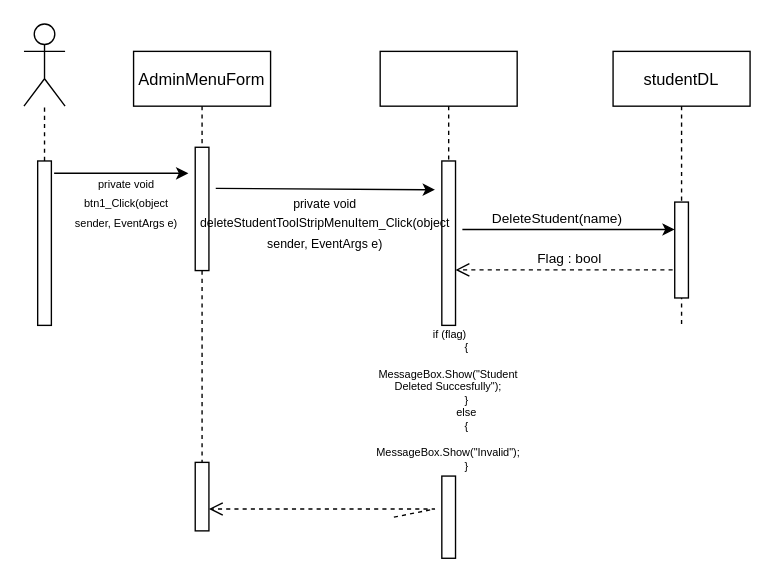
Image size: 774x582. Some labels were removed from this diagram. The shapes that lost their labels are listed below. From the top down, each one's centre as x and y in pixels, then its label:
At [44,64]: "Actor".
At [448,187]: "DeleteStudentForm".
